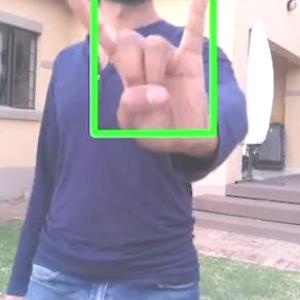takeoff-hand: (56, 0, 212, 136)
